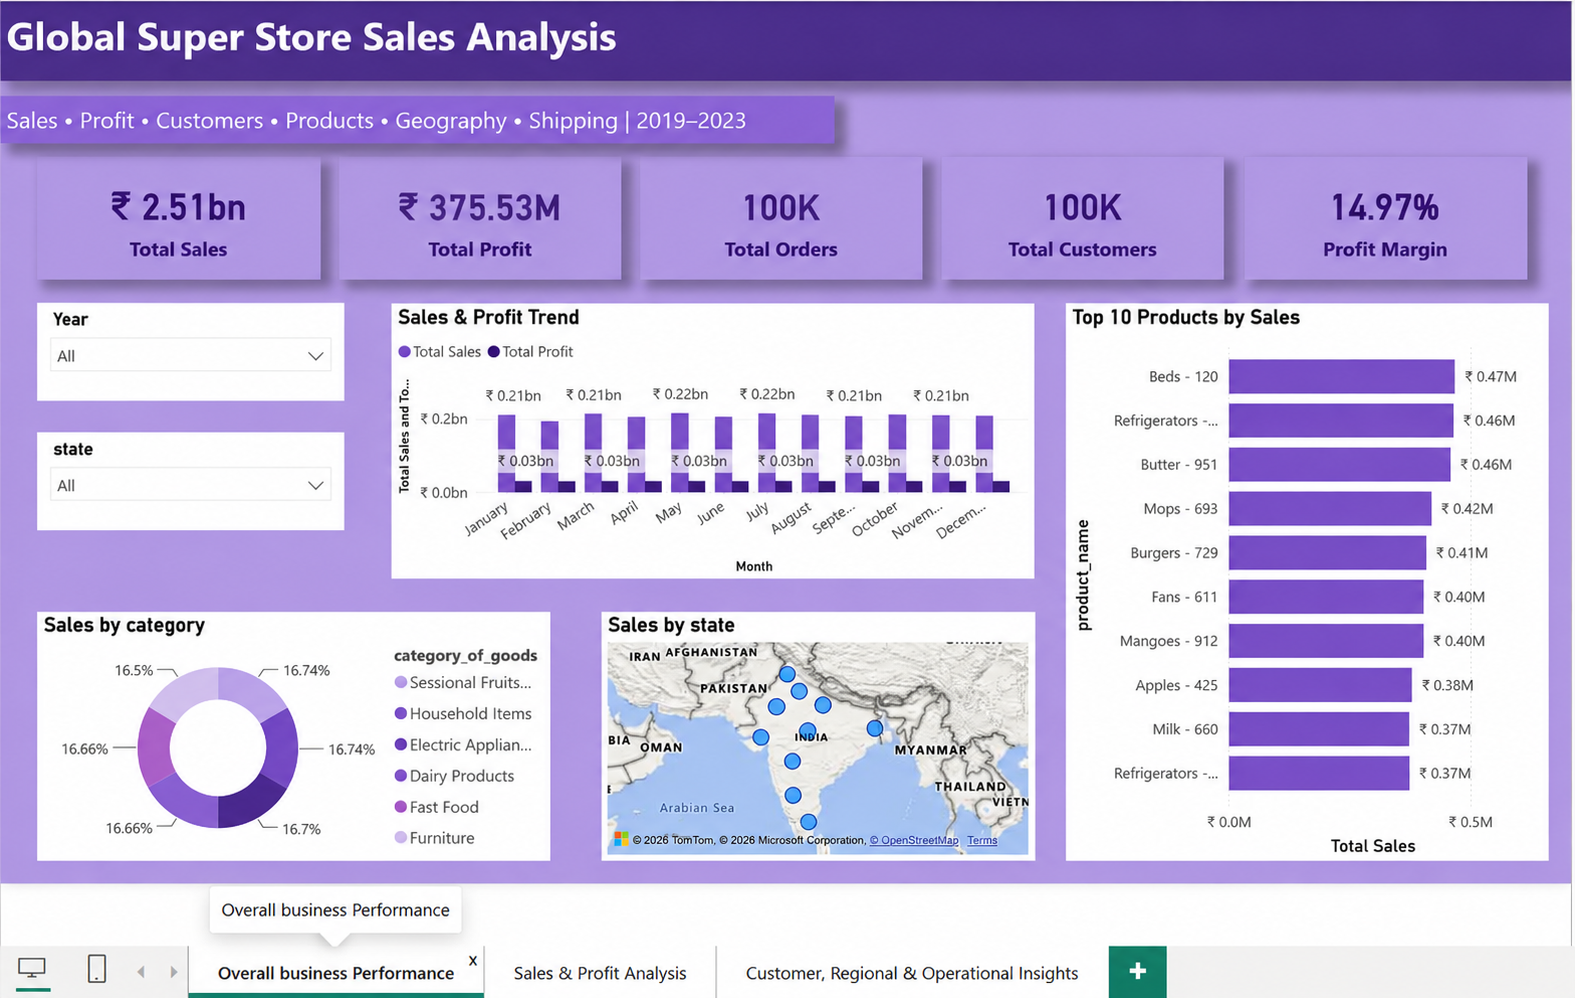

Layout of this report page (visuals, bound fields, positions):
{"tool":"powerbi","page":{"name":"Overall business Performance","canvas":[1280,720],"ordinal":0},"visuals":[{"type":"textbox","box":[0,0,1280,63.3],"z":0},{"type":"textbox","box":[0,76.7,680,36.7],"z":1000},{"type":"card","fields":{"Values":["_measurement_table.Total Sales"]},"box":[30,125,230,100],"z":2000},{"type":"card","fields":{"Values":["_measurement_table.Total Profit"]},"box":[275.8,125,230,100],"z":3000},{"type":"card","fields":{"Values":["_measurement_table.Total Orders"]},"box":[521.7,125,230,100],"z":4000},{"type":"card","fields":{"Values":["_measurement_table.Total Customers"]},"box":[767.5,125,230,100],"z":5000},{"type":"card","fields":{"Values":["_measurement_table.Profit Margin"]},"box":[1013.3,125,230,100],"z":6000},{"type":"lineClusteredColumnComboChart","title":"Sales & Profit Trend","fields":{"Y":["_measurement_table.Total Sales","_measurement_table.Total Profit"],"Category":["dim_date_table.date.Variation.Date Hierarchy.Year","dim_date_table.date.Variation.Date Hierarchy.Quarter","dim_date_table.date.Variation.Date Hierarchy.Month","dim_date_table.date.Variation.Date Hierarchy.Day"]},"box":[318.6,245.7,524.3,224.3],"z":7000},{"type":"donutChart","title":"Sales by category","fields":{"Category":["dim_product_table.category_of_goods"],"Y":["_measurement_table.Total Sales"]},"box":[30,496.7,418.3,203.3],"z":8000},{"type":"map","title":"Sales by state","fields":{"Category":["dim_location_table.state"],"Size":["_measurement_table.Total Sales"]},"box":[490,496.7,353.3,203.3],"z":9000},{"type":"clusteredBarChart","title":"Top 10 Products by Sales","fields":{"Category":["dim_product_table.product_name"],"Y":["_measurement_table.Total Sales"]},"box":[868.3,245,393.3,455],"z":10000},{"type":"slicer","fields":{"Values":["dim_date_table.date.Variation.Date Hierarchy.Year"]},"box":[30,245,250,80],"z":11000},{"type":"slicer","fields":{"Values":["dim_location_table.state"]},"box":[30,350,250,80],"z":12000}]}

Visuals, with their boxes on the page's 1280x720 design canvas (x1, y1, x2, y2). These are canvas units, not pixel positions in the 1575x998 screenshot, which may show the page scaled, cropped or inside an application window:
textbox: rect(0, 0, 1280, 63)
textbox: rect(0, 77, 680, 113)
card - _measurement_table.Total Sales: rect(30, 125, 260, 225)
card - _measurement_table.Total Profit: rect(276, 125, 506, 225)
card - _measurement_table.Total Orders: rect(522, 125, 752, 225)
card - _measurement_table.Total Customers: rect(768, 125, 998, 225)
card - _measurement_table.Profit Margin: rect(1013, 125, 1243, 225)
"Sales & Profit Trend" lineClusteredColumnComboChart: rect(319, 246, 843, 470)
"Sales by category" donutChart: rect(30, 497, 448, 700)
"Sales by state" map: rect(490, 497, 843, 700)
"Top 10 Products by Sales" clusteredBarChart: rect(868, 245, 1262, 700)
slicer - dim_date_table.date.Variation.Date Hierarchy.Year: rect(30, 245, 280, 325)
slicer - dim_location_table.state: rect(30, 350, 280, 430)
